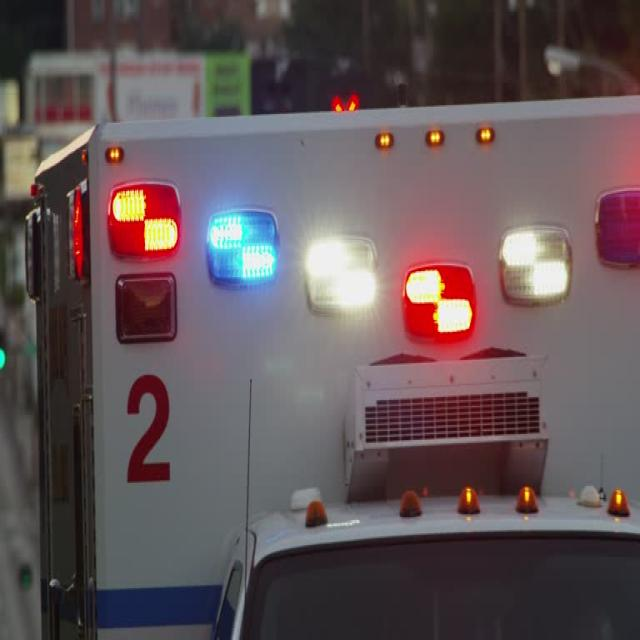emergency lights: (98, 146, 632, 365)
